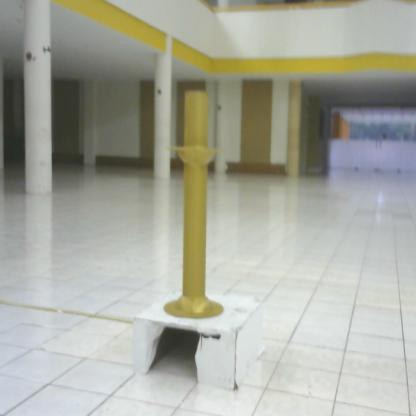pole: (158, 83, 237, 328)
